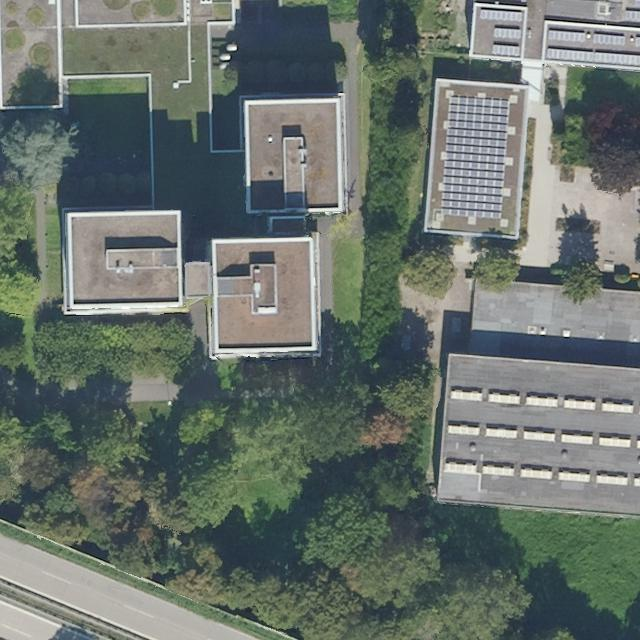PV: (439, 94, 511, 221), (545, 47, 639, 70), (477, 7, 524, 23), (548, 30, 590, 44), (494, 27, 521, 42), (493, 44, 520, 56)
